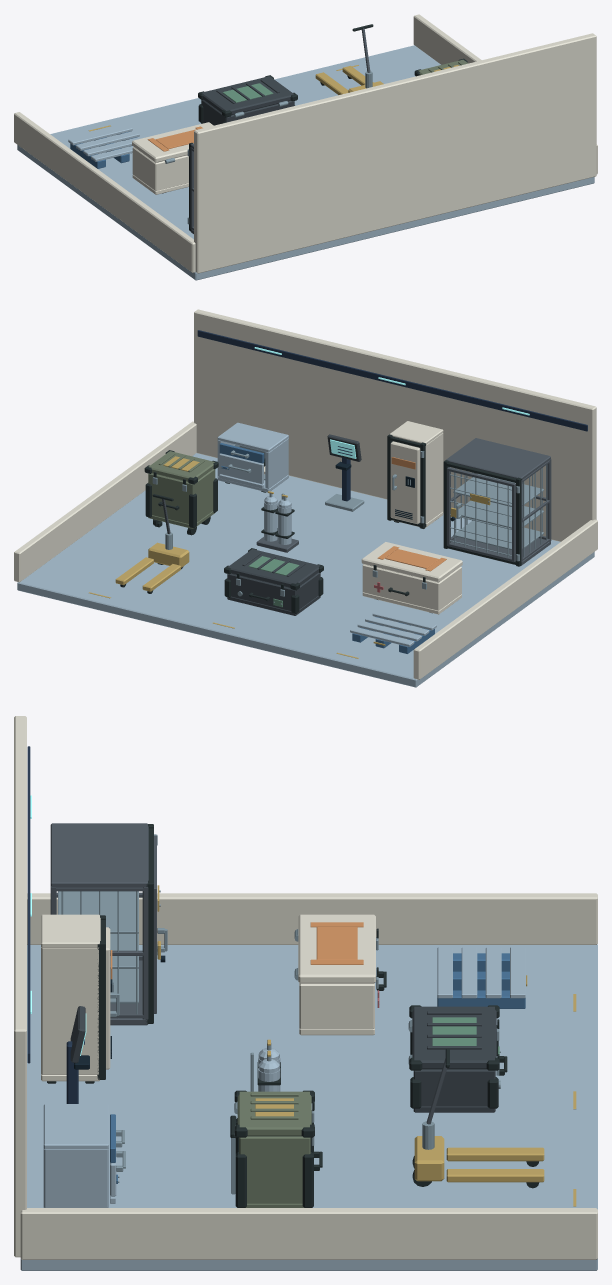
File: harbor_logistics_room.glb
3 views of the same model, one above another, from view 1: azimuth 30°, elevation 25°; view 2: azimuth 150°, elevation 25°; view 3: azimuth 270°, elevation 25° (orthographic). The views are drawn at different scales.
Visible parts, largest first — view 1: rear_wall, room_floor, cutaway_side (×2), diver_equipment_case_moving_lid, port_plastic_pallet_pallet_slat (×3), lifesaving_deck_box_moving_lid, lifesaving_deck_box_body_back_wall, lifesaving_deck_box_body_side_wall, diver_equipment_case_moving_lid_identity, lifesaving_deck_box_moving_lid_identity, diver_equipment_case_body_side_wall, diver_equipment_case_body_back_wall; view 2: room_floor, rear_wall, cutaway_side (×2), harbor_cargo_cage_interior_shelf (×3), service_rail, harbor_cargo_cage_body_roof, maritime_signal_locker_moving_door, lifesaving_deck_box_body_front_wall, lifesaving_deck_box_moving_lid, diver_equipment_case_moving_lid, maritime_signal_locker_body_side_wall, rolling_logistics_case_body_front_wall (+13 smaller); view 3: room_floor, cutaway_side (×2), rear_wall, harbor_cargo_cage_body_roof, maritime_signal_locker_body_side_wall, rolling_logistics_case_body_side_wall, harbor_cargo_cage_interior_shelf (×3), port_manifest_drawer_body_side_wall, lifesaving_deck_box_moving_lid, lifesaving_deck_box_body_side_wall, diver_equipment_case_moving_lid, port_plastic_pallet_pallet_slat (×4) (+14 smaller).
Boxes of the visible parts, <box> form: rear_wall: <box>194,33,596,273</box>; room_floor: <box>17,45,594,280</box>; cutaway_side (×2): <box>14,14,597,272</box>; diver_equipment_case_moving_lid: <box>202,76,293,114</box>; port_plastic_pallet_pallet_slat (×3): <box>68,125,144,156</box>; lifesaving_deck_box_moving_lid: <box>132,122,213,162</box>; lifesaving_deck_box_body_back_wall: <box>155,155,188,190</box>; lifesaving_deck_box_body_side_wall: <box>132,147,158,190</box>; diver_equipment_case_moving_lid_identity: <box>222,83,273,102</box>; lifesaving_deck_box_moving_lid_identity: <box>155,129,196,149</box>; diver_equipment_case_body_side_wall: <box>201,100,229,125</box>; diver_equipment_case_body_back_wall: <box>227,100,293,121</box>; room_floor: <box>17,453,594,687</box>; rear_wall: <box>194,309,596,541</box>; cutaway_side (×2): <box>14,421,597,679</box>; harbor_cargo_cage_interior_shelf (×3): <box>453,474,543,550</box>; service_rail: <box>197,330,587,431</box>; harbor_cargo_cage_body_roof: <box>446,438,550,479</box>; maritime_signal_locker_moving_door: <box>390,441,420,524</box>; lifesaving_deck_box_body_front_wall: <box>363,565,440,610</box>; lifesaving_deck_box_moving_lid: <box>361,542,462,582</box>; diver_equipment_case_moving_lid: <box>228,549,319,587</box>; maritime_signal_locker_body_side_wall: <box>425,433,443,523</box>; rolling_logistics_case_body_front_wall: <box>148,473,192,523</box>; room_floor: <box>20,944,597,1270</box>; cutaway_side (×2): <box>20,893,597,1259</box>; rear_wall: <box>14,716,26,1257</box>; harbor_cargo_cage_body_roof: <box>50,823,148,887</box>; maritime_signal_locker_body_side_wall: <box>41,947,98,1074</box>; rolling_logistics_case_body_side_wall: <box>239,1136,310,1203</box>; harbor_cargo_cage_interior_shelf (×3): <box>58,891,138,1003</box>; port_manifest_drawer_body_side_wall: <box>43,1149,108,1207</box>; lifesaving_deck_box_moving_lid: <box>298,914,375,983</box>; lifesaving_deck_box_body_side_wall: <box>299,983,374,1029</box>; diver_equipment_case_moving_lid: <box>412,1006,496,1068</box>; port_plastic_pallet_pallet_slat (×4): <box>437,947,525,998</box>.
Size of the model in its own units: 8.13 by 2.86 by 6.27.
